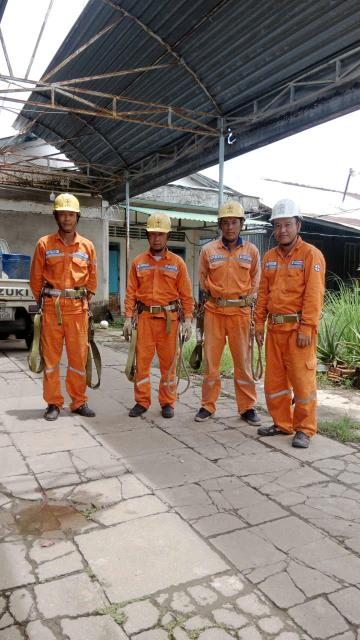gloves: (121, 315, 144, 344), (180, 313, 198, 343)
harness: (39, 277, 97, 311), (198, 286, 262, 315), (262, 304, 318, 331), (128, 298, 182, 318)
helmet: (263, 195, 319, 232), (37, 188, 96, 222), (212, 191, 253, 226), (139, 208, 180, 241)
shoes: (29, 396, 68, 431), (68, 396, 105, 427), (232, 405, 268, 432), (127, 393, 153, 426), (252, 422, 296, 441), (192, 400, 220, 423), (293, 425, 315, 454), (156, 398, 181, 422)
